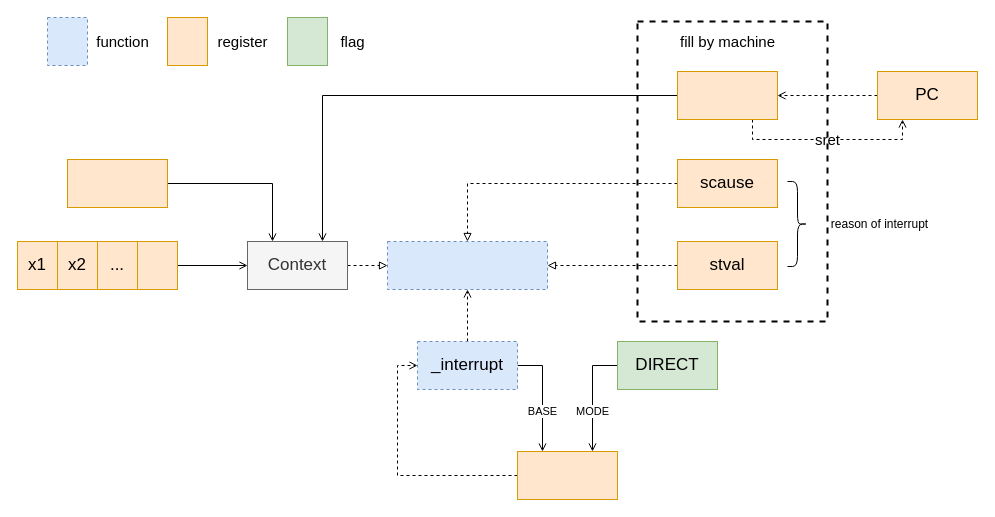
Some shapes in this 995 by 517 pixel diagram are drawn without their labels. The centre of each missing label's shape, as x and y in pixels:
handle_interrupt: the point at 467,265
sepc: the point at 727,95
sstatus: the point at 117,183
stvec: the point at 567,475
x32: the point at 157,265
